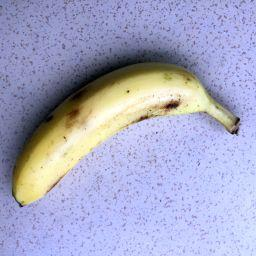Banana Ripe: (10, 55, 242, 207)
